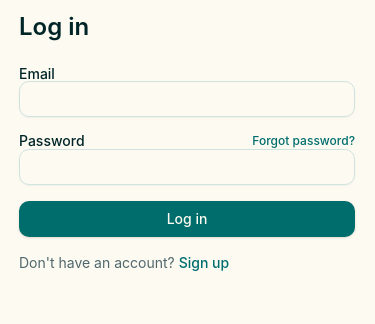
Test: LoginPage › shows an error message when login fails, without crashing
Type "test@example.com" into the field labelled "Email" at (187, 99), box [19,81,355,117]
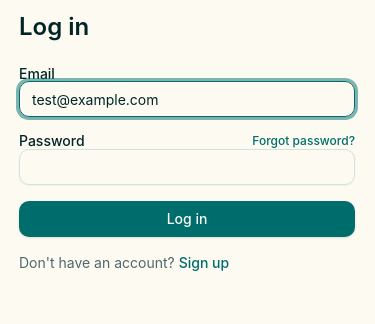
Type "wrong-password" into the password field labelled "Password" at (187, 167), box [19,149,355,185]
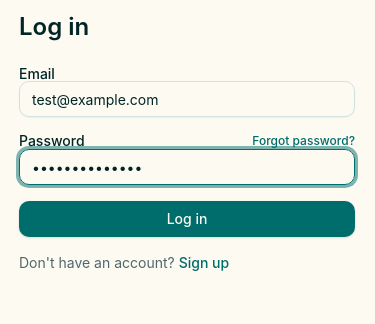
Click the button "Log in" at (187, 219), box [19,201,355,237]
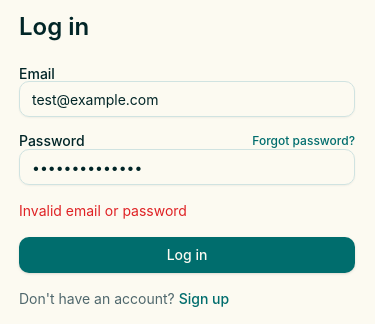
Expected: the text "Invalid email or password" is shown, [19,202,187,219]
